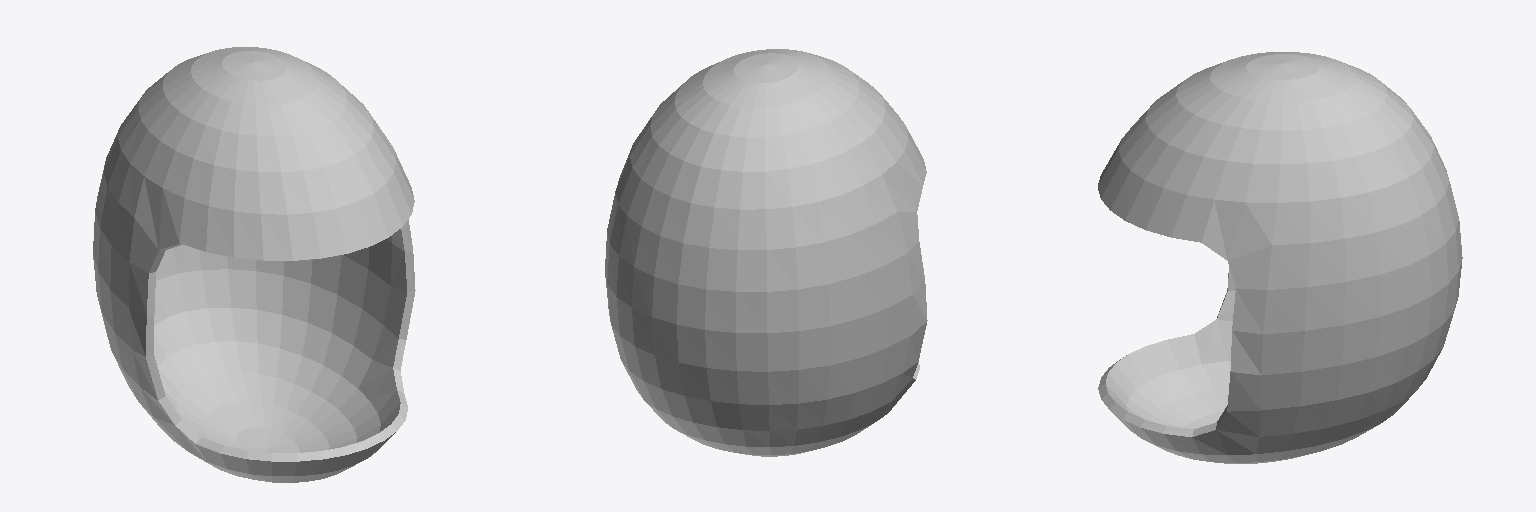
Rendered from helmet.obj.
The picture shows the model from 3 angles: view 1: azimuth 30°, elevation 25°; view 2: azimuth 150°, elevation 25°; view 3: azimuth 270°, elevation 25°; orthographic projection.
Visible parts, largest first — view 1: Helmet; view 2: Helmet; view 3: Helmet.
Part boxes in pixels (left/top/right/bottom): Helmet: left=93, top=47, right=415, bottom=482; Helmet: left=605, top=49, right=927, bottom=456; Helmet: left=1098, top=52, right=1462, bottom=463.
Bounding box in the file's own units: 1.06 × 1.43 × 1.23.